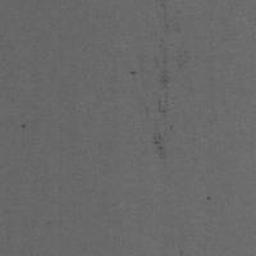Inclusion: (159, 0, 169, 117), (154, 138, 161, 145)
